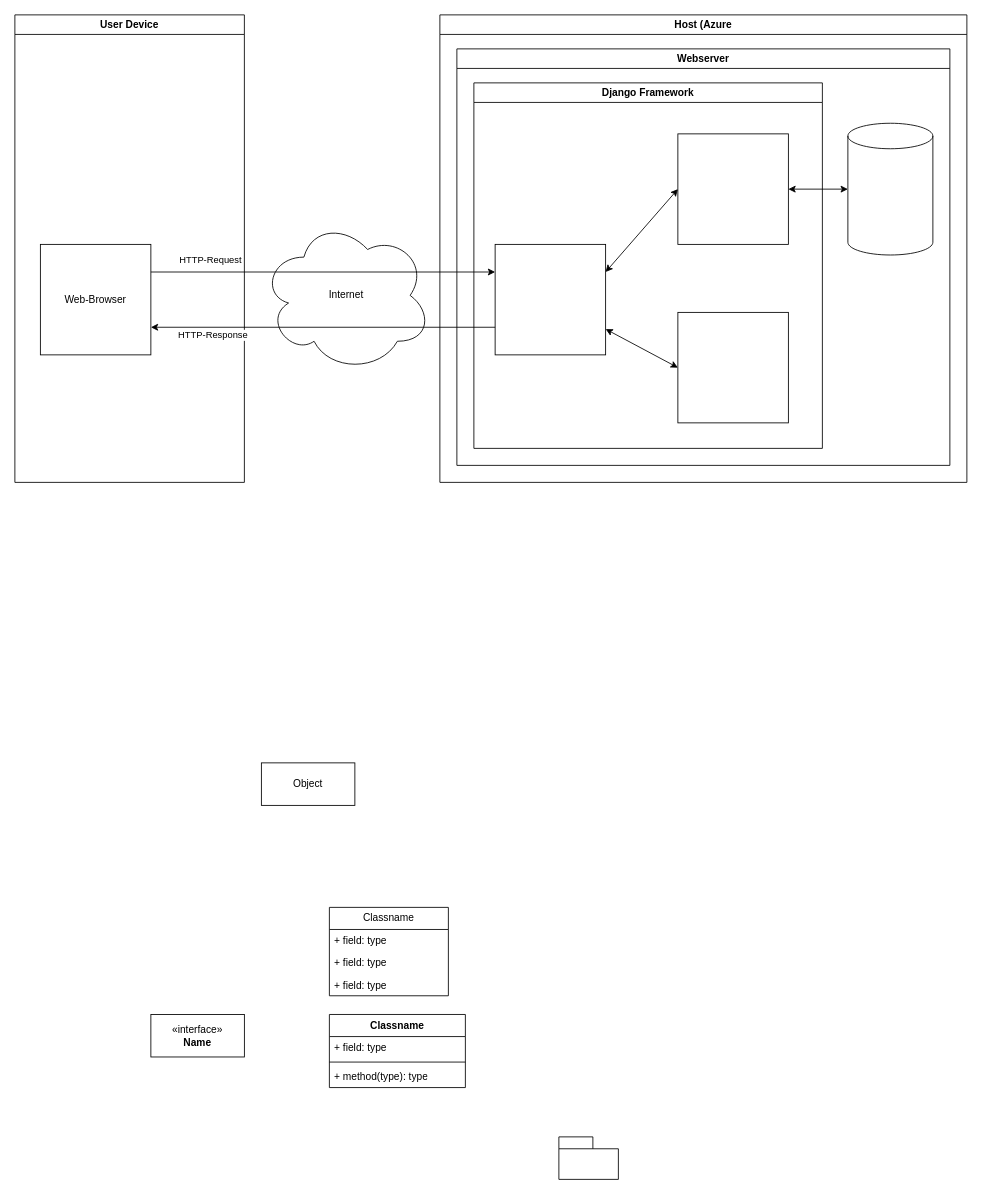
Some shapes in this 982 by 1194 pixel diagram are drawn without their labels. Each missing label, with the centre of its shape:
"Model" belongs at point (732, 188).
"package" belongs at point (588, 1157).
"SQLlite DB" belongs at point (890, 188).
"Template" belongs at point (732, 367).
"View" belongs at point (550, 299).
